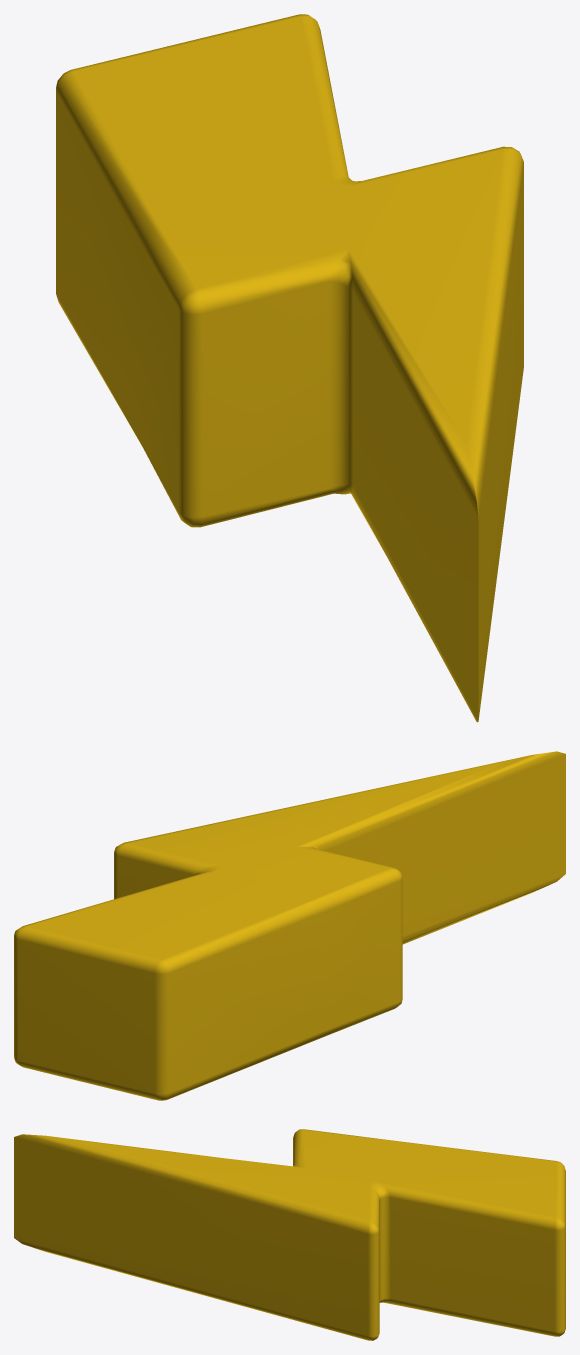
File: lightning.glb
3 renders of one model, top to bottom at view 1: azimuth 30°, elevation 25°; view 2: azimuth 150°, elevation 25°; view 3: azimuth 270°, elevation 25°, orthographic. The views are drawn at different scales.
Visible parts, largest first — view 1: Lightning; view 2: Lightning; view 3: Lightning.
Boxes of the visible parts, x1=… form: Lightning: x1=56, y1=14, x2=523, y2=722; Lightning: x1=14, y1=751, x2=565, y2=1100; Lightning: x1=14, y1=1129, x2=565, y2=1340.
Bounding box in the file's own units: 1.82 × 1 × 4.22.
